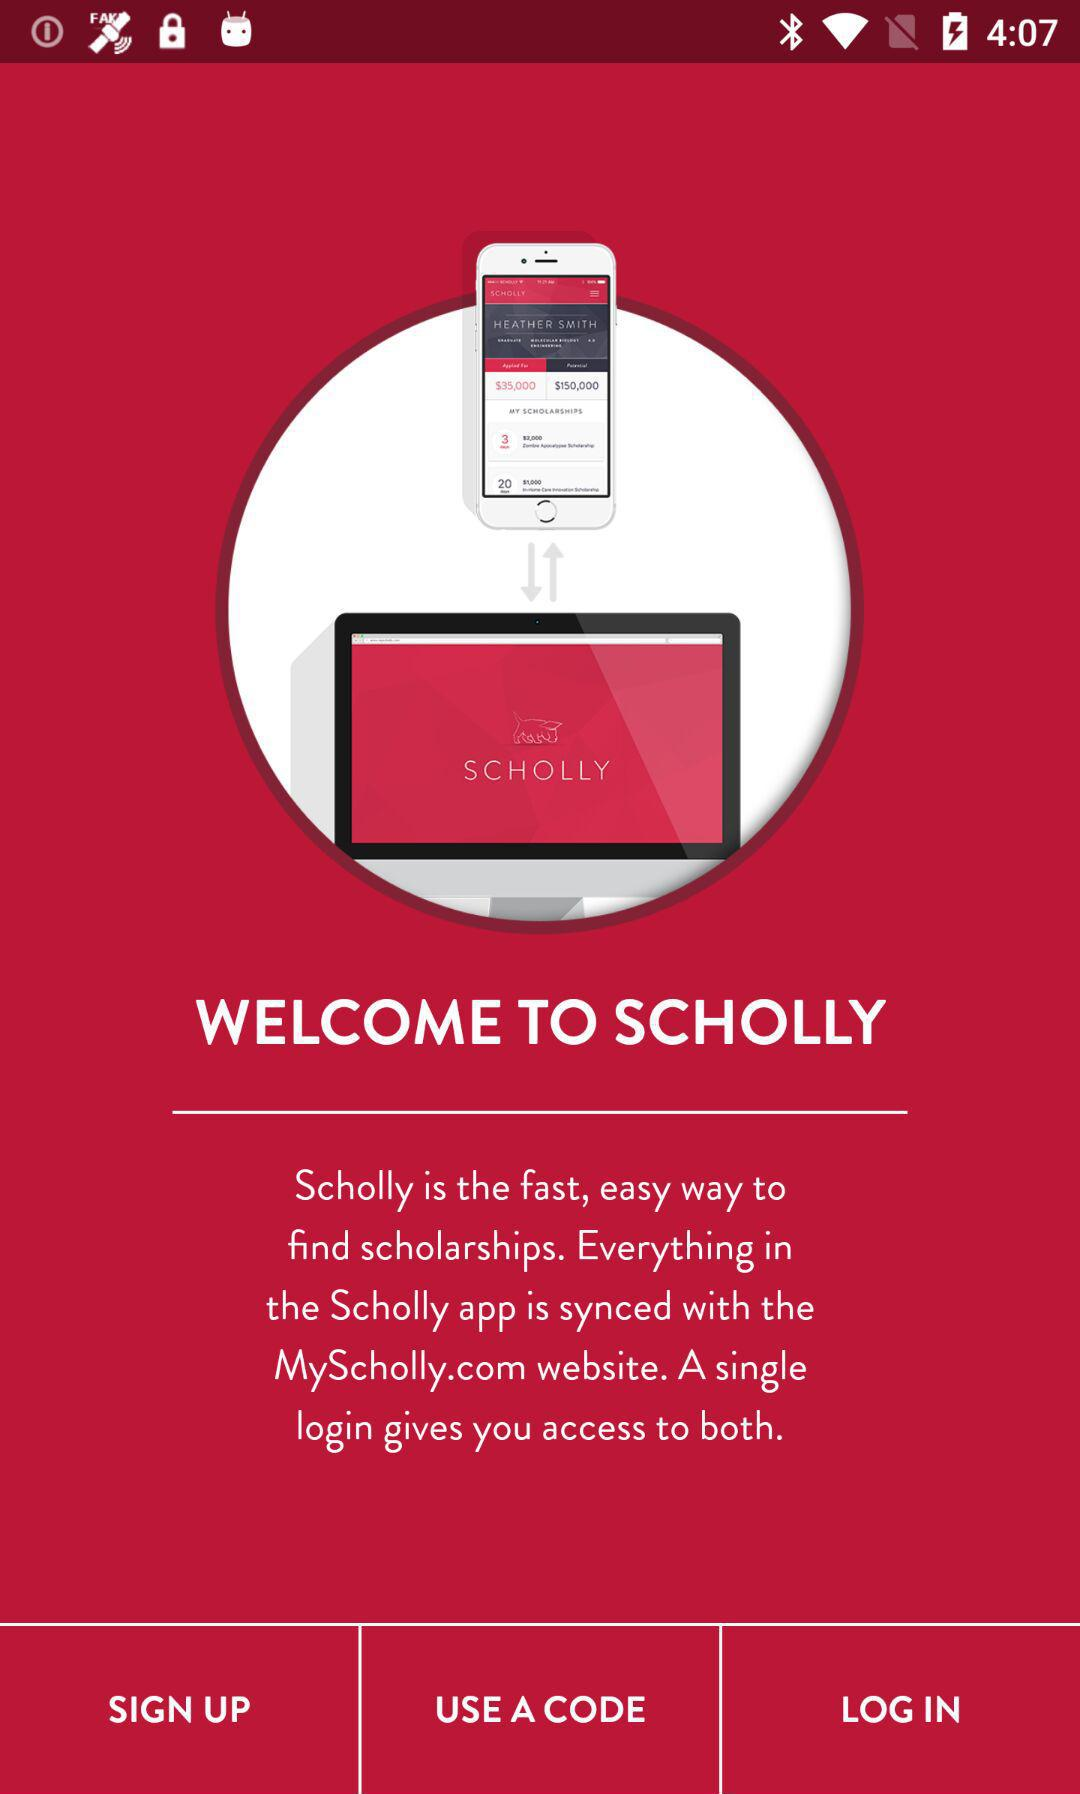Image: (214, 229, 863, 935)
Text: (265, 1167, 815, 1454), (195, 997, 888, 1047)
TextButton: (361, 1624, 721, 1794), (721, 1624, 1080, 1794), (1, 1624, 360, 1794)
UpperTaskBar: (1, 1, 1080, 64)
